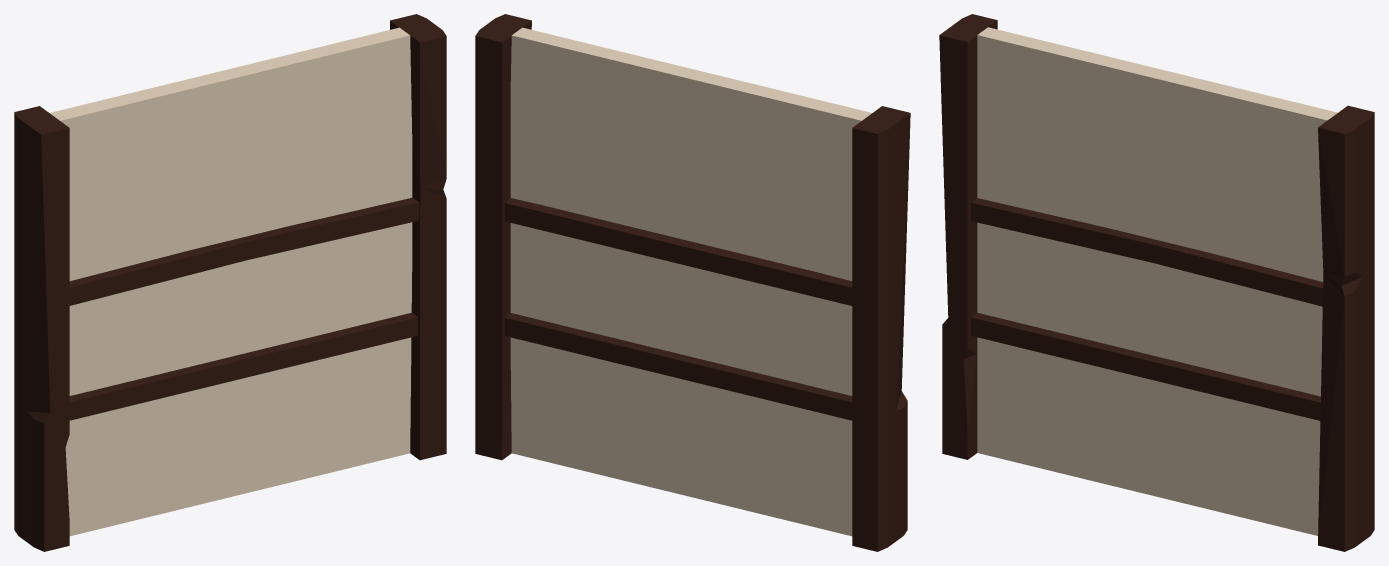
The model's file is BuildingWall_5_1  Asia.fbx.
The picture shows the model from 3 angles, left to right: view 1: azimuth 30°, elevation 25°; view 2: azimuth 150°, elevation 25°; view 3: azimuth 330°, elevation 25°; orthographic projection.
Visible parts, largest first — view 1: BuildingWall_5_1; view 2: BuildingWall_5_1; view 3: BuildingWall_5_1.
Part boxes in pixels (x1,y1,x2,y2): BuildingWall_5_1: (14,14,446,551); BuildingWall_5_1: (475,14,910,551); BuildingWall_5_1: (939,14,1374,551).
Size of the model in its own units: 2 by 1.96 by 0.2547.
